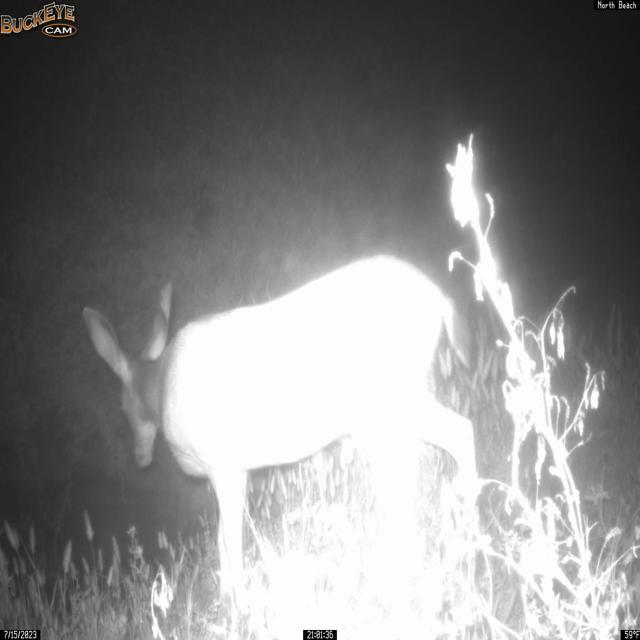deer: (82, 252, 480, 627)
